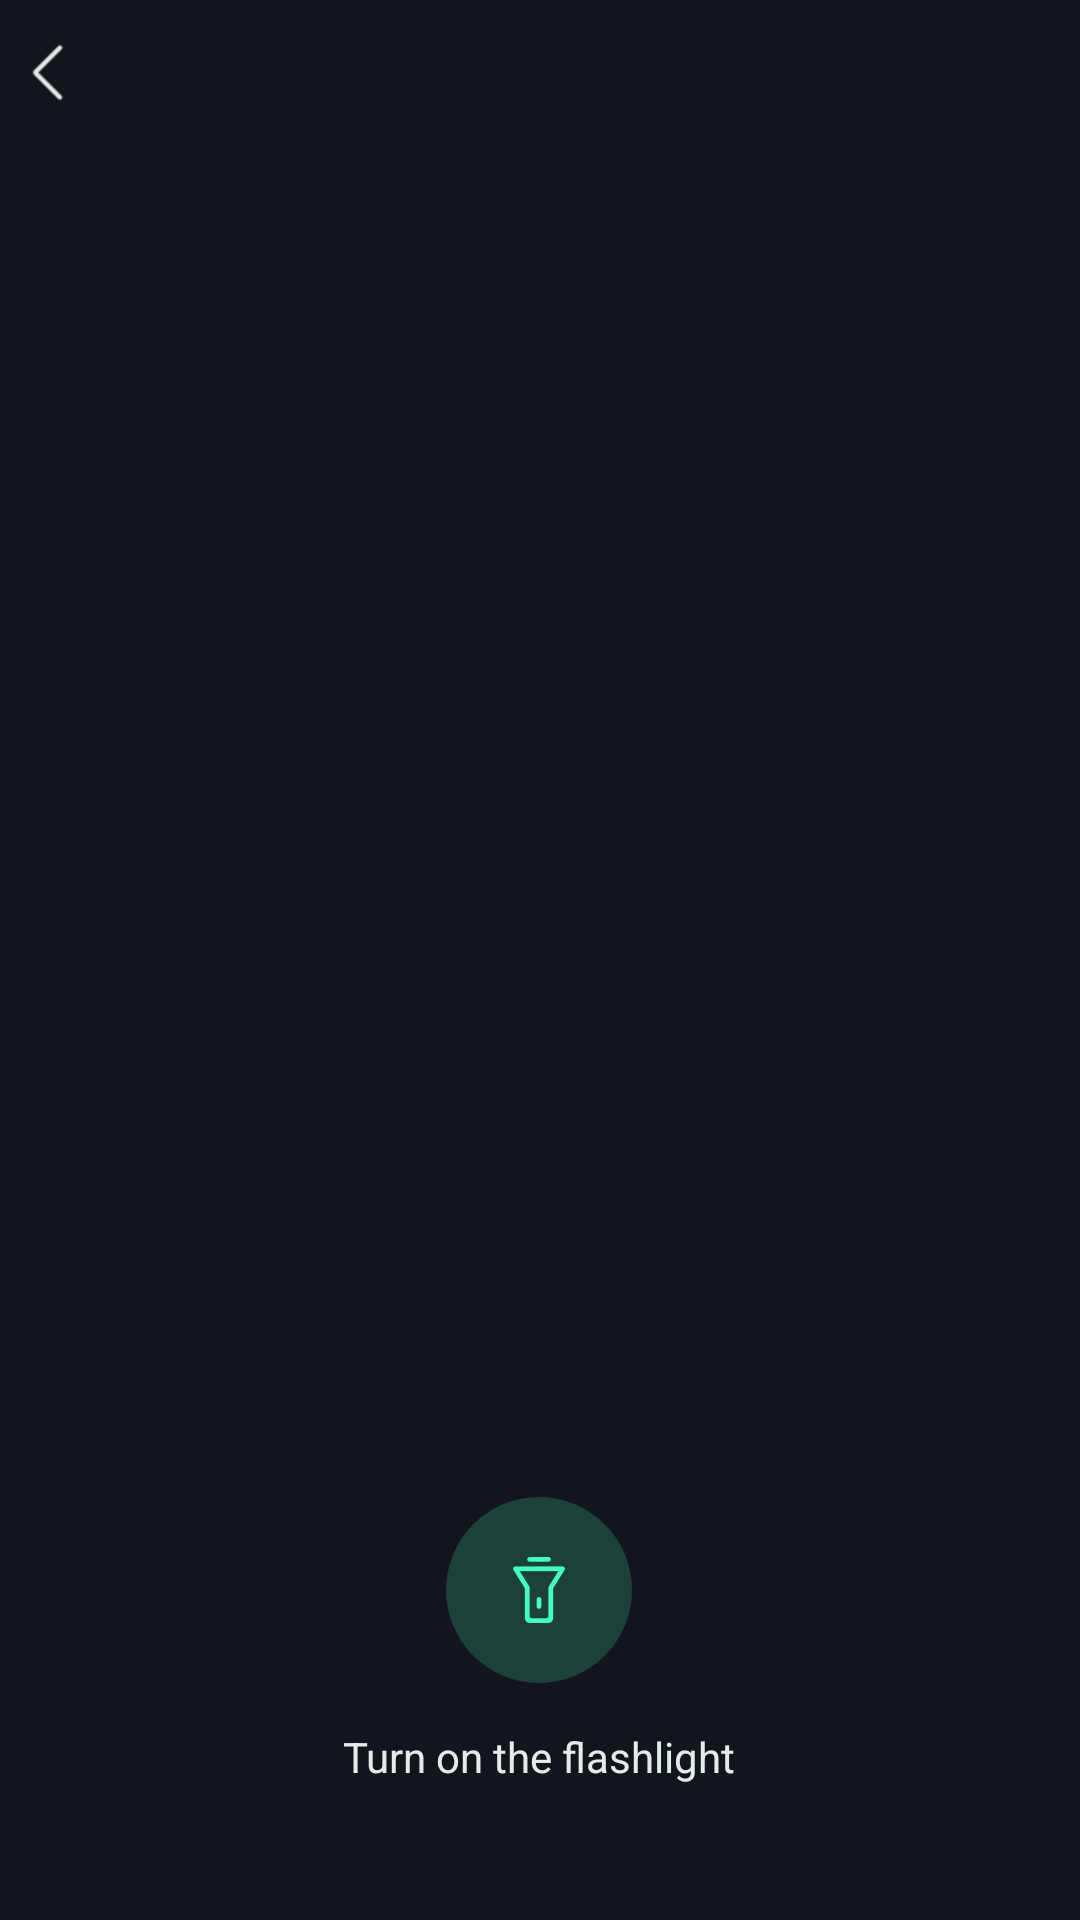

Icon bounding boxes for this 1080w x 1920h phone screenshot, format [x1,y1,x2,y2]:
back: [32,45,63,101]
